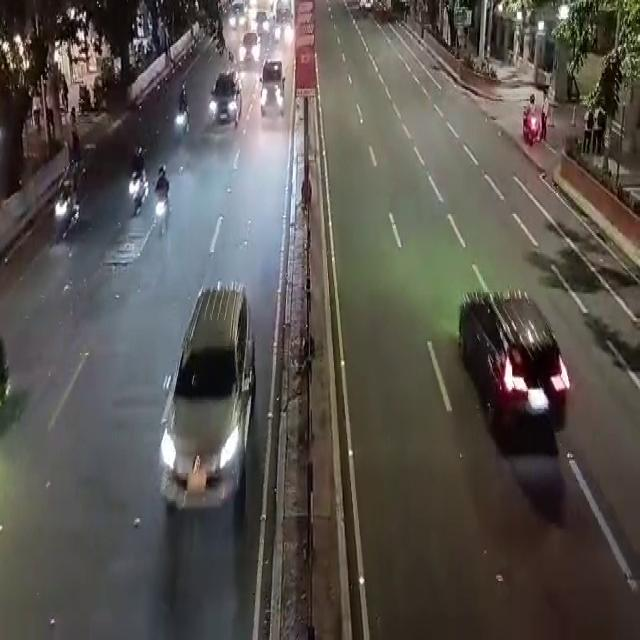car: (160, 285, 254, 525), (454, 274, 574, 456), (205, 64, 247, 128), (260, 60, 288, 122), (520, 91, 540, 143), (236, 31, 263, 65)
motorcycle: (57, 165, 94, 256), (152, 168, 172, 244), (176, 77, 195, 138), (130, 153, 146, 217)
